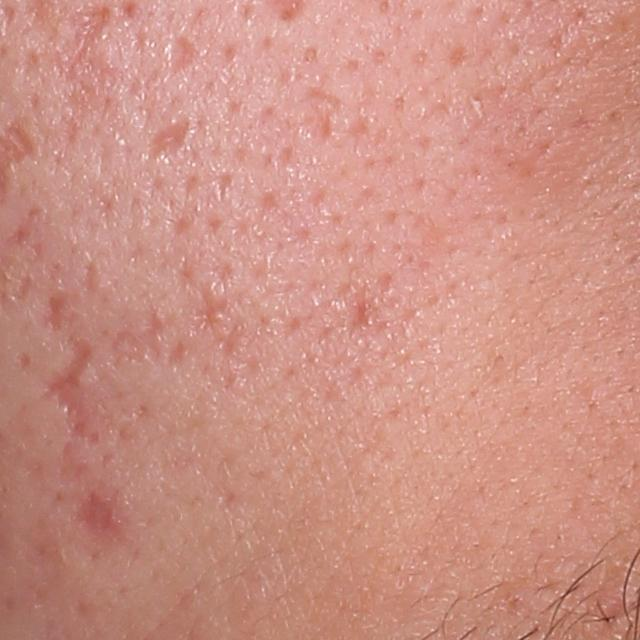atrophic_scar: (48, 1, 122, 146), (44, 332, 104, 447), (106, 309, 168, 372), (71, 488, 125, 548), (145, 111, 195, 166), (306, 86, 341, 147), (163, 31, 202, 84), (40, 291, 69, 336), (82, 261, 99, 294), (167, 340, 187, 368)
